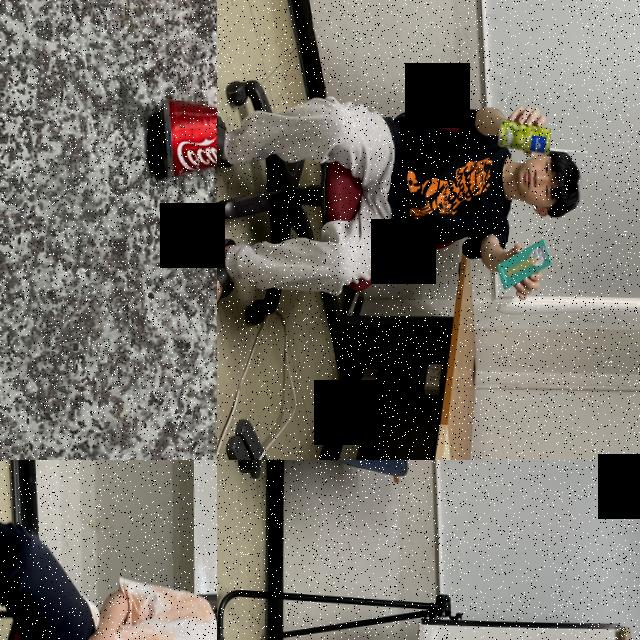can: (496, 118, 552, 154)
